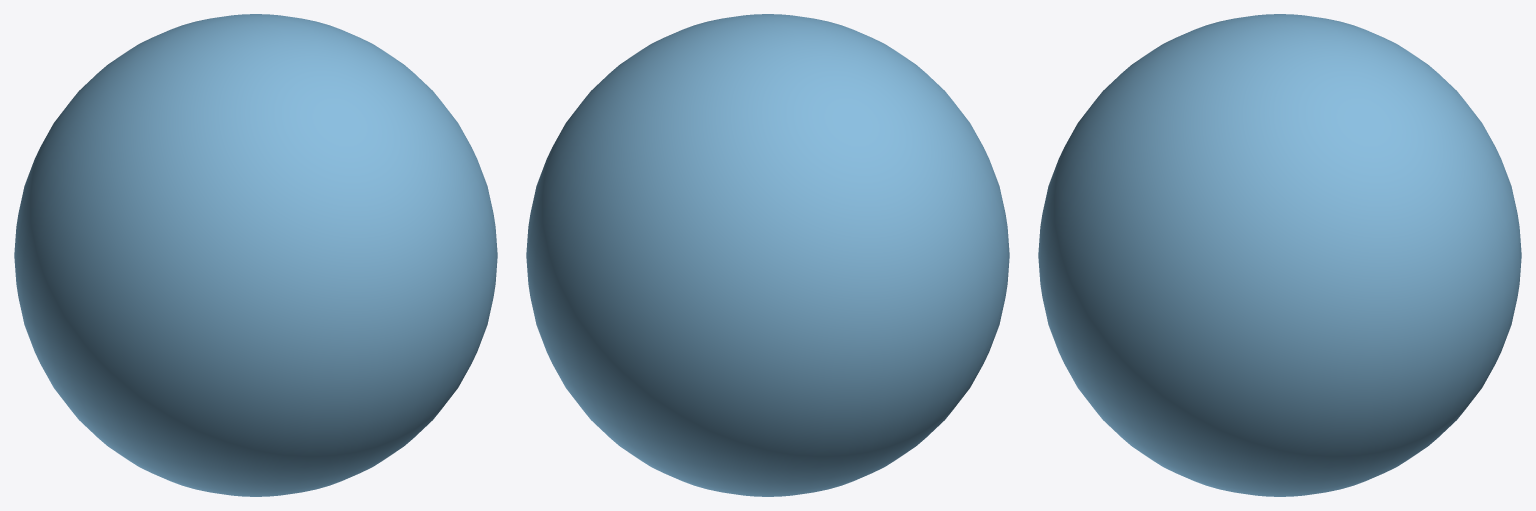
File: sky-dome.glb
The picture shows the model from 3 angles, left to right: view 1: azimuth 30°, elevation 25°; view 2: azimuth 150°, elevation 25°; view 3: azimuth 270°, elevation 25°; orthographic projection.
Parts seen in each view (by area): view 1: sky-dome__sky; view 2: sky-dome__sky; view 3: sky-dome__sky.
Part boxes in pixels (<box>): sky-dome__sky: <box>14,14,497,496</box>; sky-dome__sky: <box>526,14,1009,496</box>; sky-dome__sky: <box>1038,14,1521,496</box>.
Size of the model in its own units: 310 by 310 by 310.
